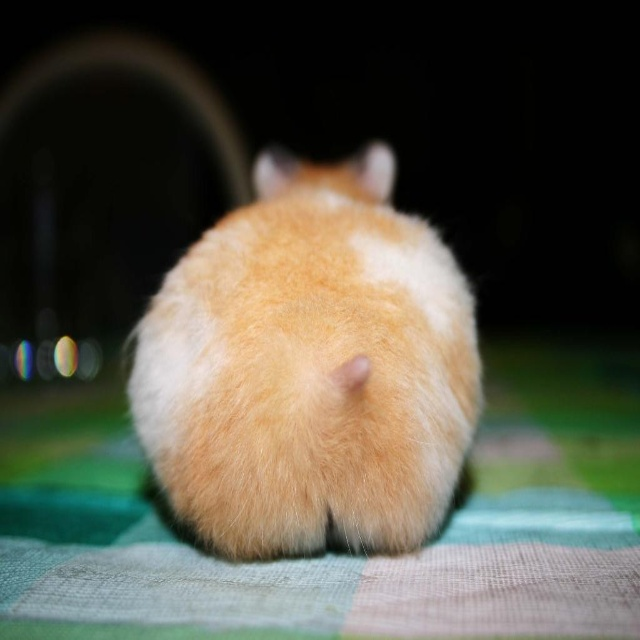Hamster: (124, 143, 490, 554)
